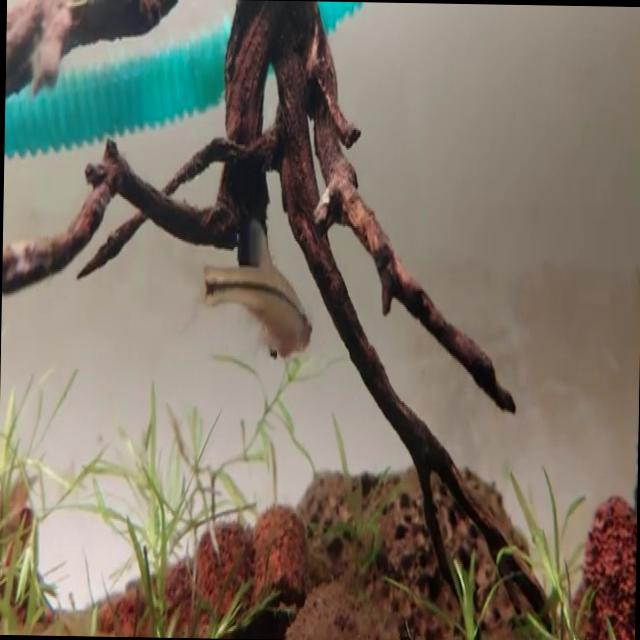Cakil Baligi: (194, 216, 318, 368)
